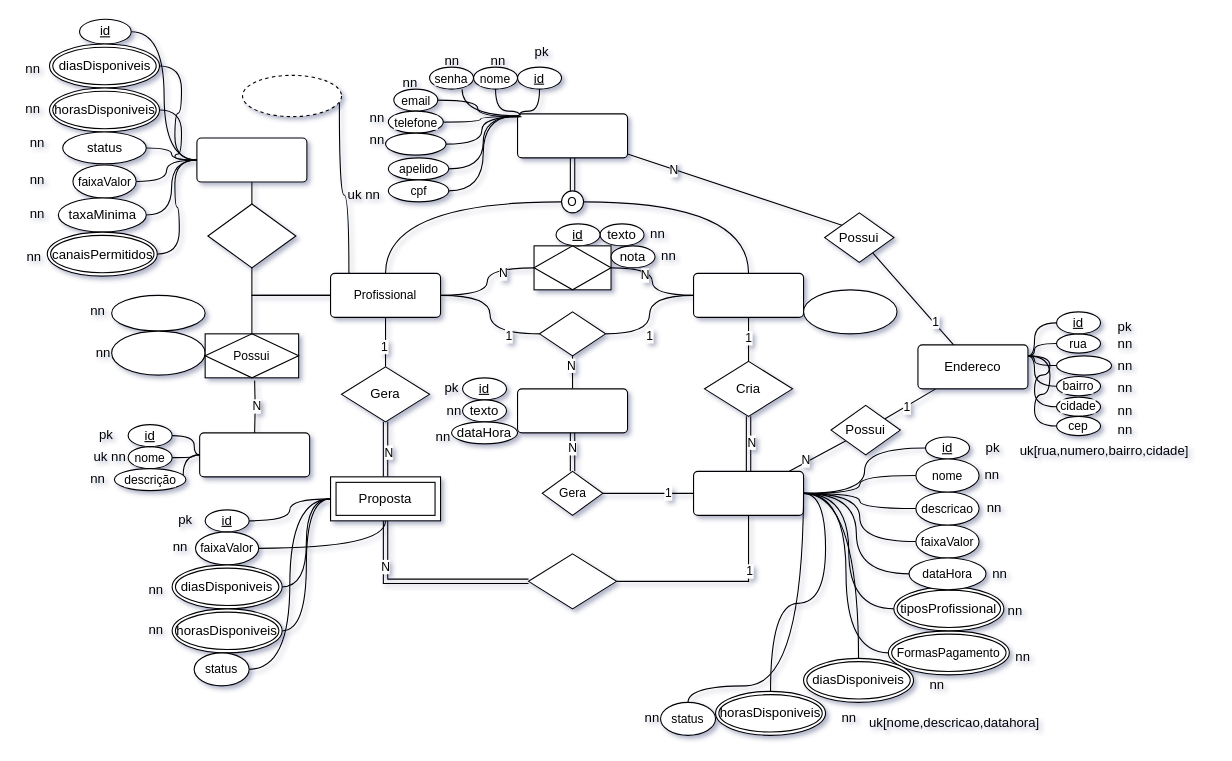
This 1232x761 diagram has some shape labels left out. Each missing label, with the box of its shape:
Avalia: (533, 245, 611, 290)
avaliação: (384, 132, 446, 155)
Cliente: (692, 272, 804, 317)
Configura: (207, 203, 296, 268)
Envia: (538, 311, 606, 356)
inicioAtuação: (111, 294, 205, 331)
Notificação: (516, 388, 628, 433)
numero: (1055, 355, 1112, 375)
Pertence: (527, 553, 617, 609)
Profissão: (199, 432, 310, 477)
qtdServicoCriado: (802, 289, 897, 334)
qtdServiçoFeito: (111, 330, 205, 375)
Serviço: (692, 470, 804, 515)
totalServicoFeito: (241, 74, 342, 117)
Urgência: (196, 137, 307, 182)
Usuário: (516, 113, 628, 158)
